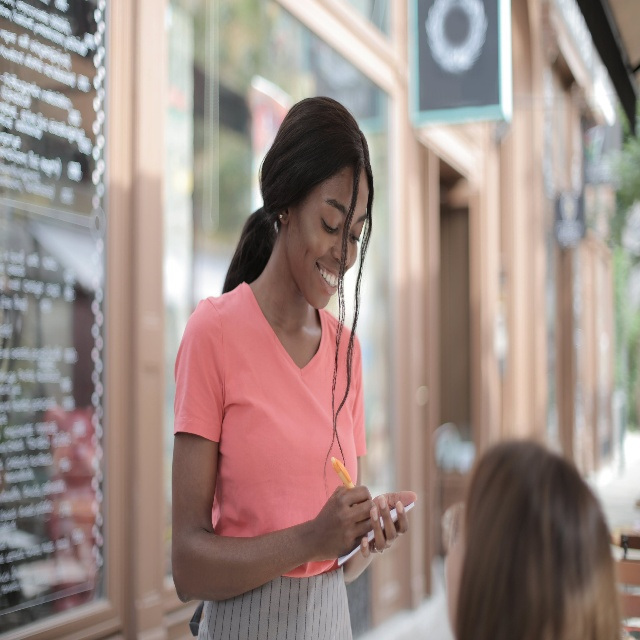Sin_guantes: (310, 485, 376, 562), (360, 491, 417, 559)
